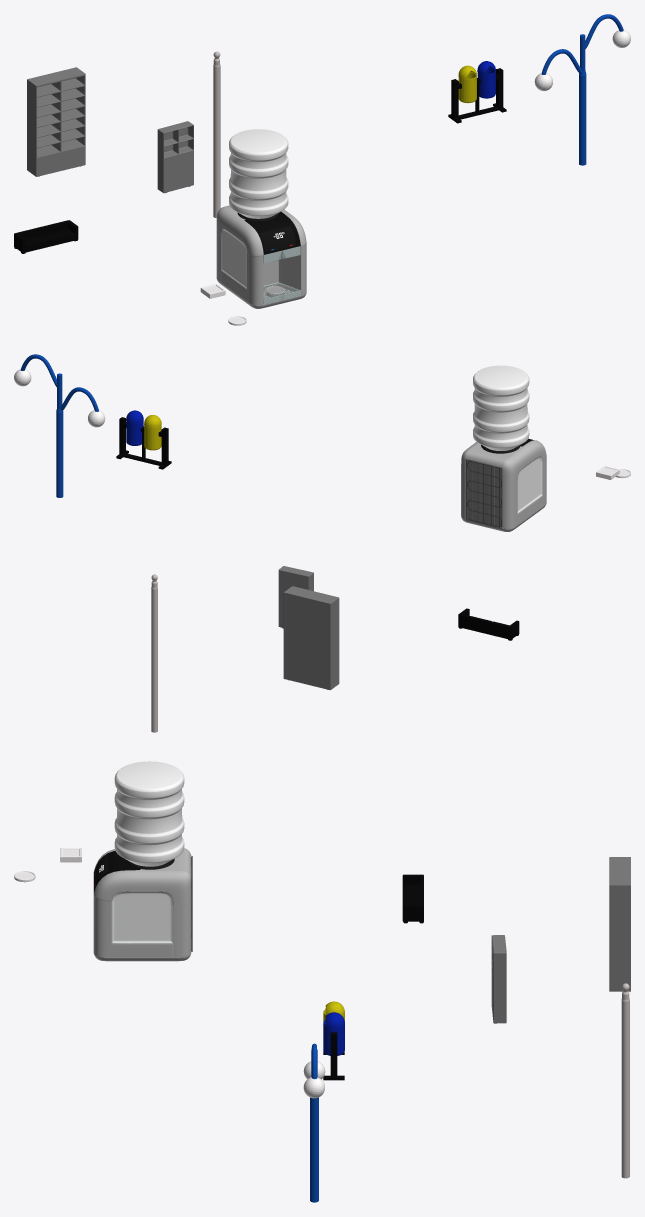
Rendered from ObjUPDS1-GS.glb.
3 renders of one model, top to bottom at view 1: azimuth 30°, elevation 25°; view 2: azimuth 150°, elevation 25°; view 3: azimuth 270°, elevation 25°, orthographic. The views are drawn at different scales.
Visible parts, largest first — view 1: gelagua.001, Estante2, BezierCurve.001, Estante1, BasureroDoble, Lampara, Sofa, Mastil, BrasoLamp; view 2: gelagua.001, Estante2, BezierCurve.001, Plane.001, BasureroDoble, Lampara, Mastil, Sofa, Estante1, BrasoLamp; view 3: gelagua.001, BezierCurve.001, Estante2, Mastil, Lampara, BasureroDoble, Estante1, Sofa.
Part boxes in pixels (x1=…): gelagua.001: x1=216, y1=205, x2=306, y2=308; Estante2: x1=27, y1=67, x2=85, y2=176; BezierCurve.001: x1=229, y1=129, x2=288, y2=218; Estante1: x1=157, y1=121, x2=193, y2=193; BasureroDoble: x1=448, y1=61, x2=506, y2=123; Lampara: x1=534, y1=30, x2=630, y2=165; Sofa: x1=14, y1=220, x2=78, y2=253; Mastil: x1=213, y1=51, x2=220, y2=217; BrasoLamp: x1=541, y1=14, x2=623, y2=74; gelagua.001: x1=461, y1=438, x2=546, y2=531; Estante2: x1=283, y1=586, x2=339, y2=690; BezierCurve.001: x1=473, y1=365, x2=529, y2=450; Plane.001: x1=466, y1=459, x2=501, y2=528; BasureroDoble: x1=116, y1=410, x2=171, y2=469; Lampara: x1=14, y1=369, x2=105, y2=497; Mastil: x1=151, y1=574, x2=157, y2=732; Sofa: x1=458, y1=608, x2=519, y2=640; Estante1: x1=278, y1=566, x2=313, y2=628; BrasoLamp: x1=20, y1=354, x2=98, y2=411; gelagua.001: x1=93, y1=848, x2=191, y2=961; BezierCurve.001: x1=114, y1=761, x2=184, y2=866; Estante2: x1=609, y1=857, x2=630, y2=991; Mastil: x1=621, y1=983, x2=629, y2=1178; Lampara: x1=303, y1=1049, x2=325, y2=1202; BasureroDoble: x1=323, y1=1001, x2=344, y2=1080; Estante1: x1=491, y1=935, x2=506, y2=1023; Sofa: x1=402, y1=874, x2=423, y2=923.
Bounding box in the file's own units: 71.43 × 31.66 × 57.26.
15 materials, 2 textured.
